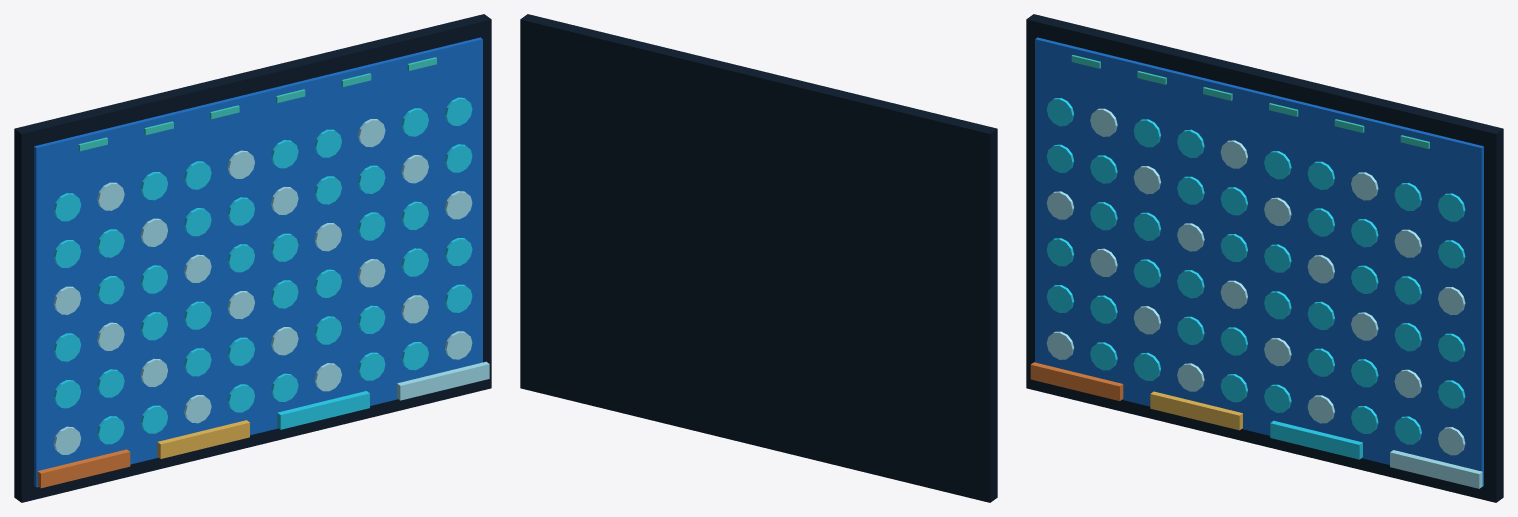
The model's file is 04_L78_CopperInterconnectLayerHologram.fbx.
3 renders of one model, left to right at view 1: azimuth 30°, elevation 25°; view 2: azimuth 150°, elevation 25°; view 3: azimuth 330°, elevation 25°, orthographic.
Parts seen in each view (by area): view 1: CopperInterconnectLayerHologram; view 2: CopperInterconnectLayerHologram; view 3: CopperInterconnectLayerHologram.
Part boxes in pixels (bbox=[...]): CopperInterconnectLayerHologram: bbox=[14, 14, 491, 502]; CopperInterconnectLayerHologram: bbox=[520, 14, 997, 502]; CopperInterconnectLayerHologram: bbox=[1026, 14, 1503, 502].
Bounding box in the file's own units: 200 × 150 × 11.
